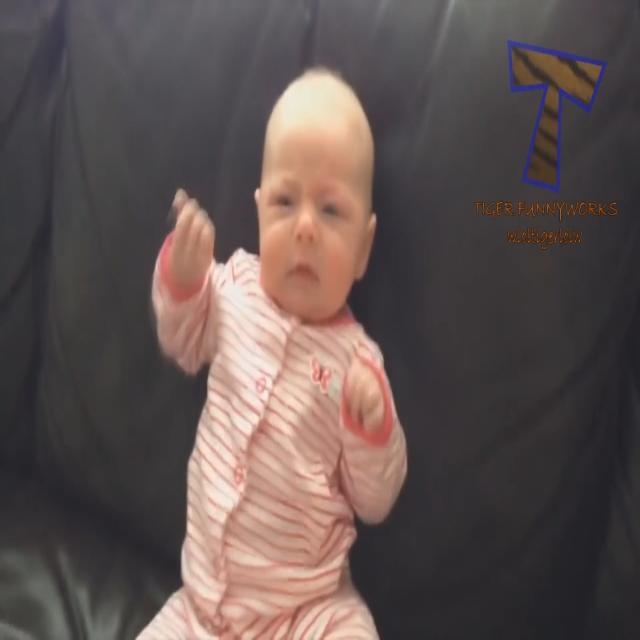safe: (164, 74, 409, 640)
